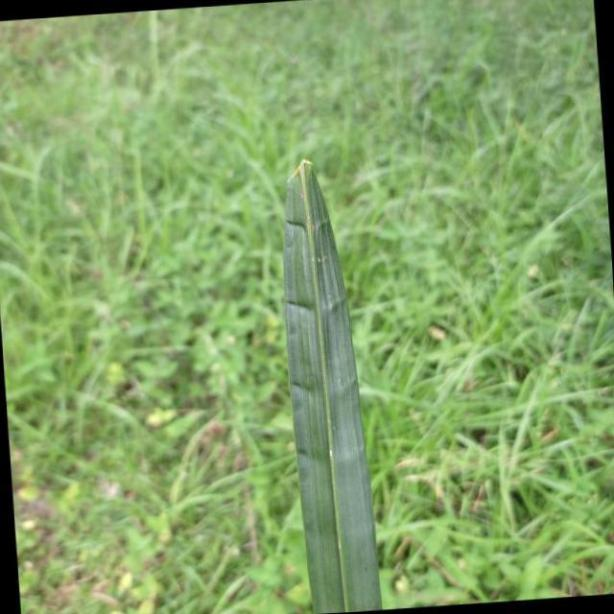Boron: (281, 153, 385, 614)
